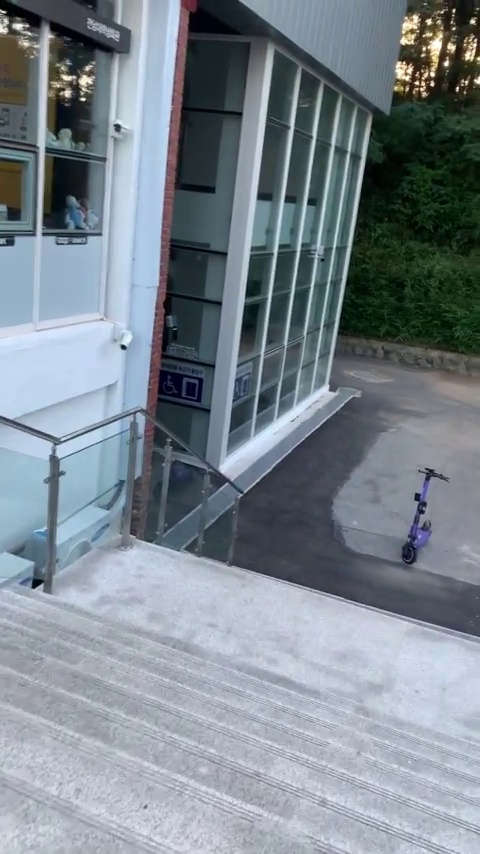beam: (395, 457, 450, 568)
